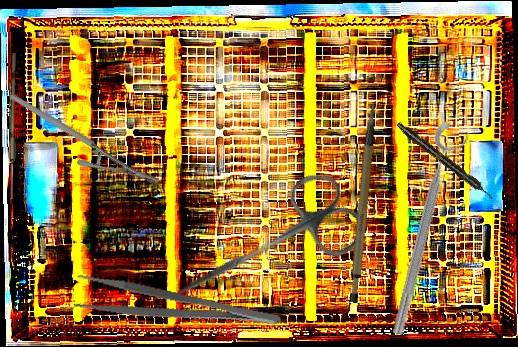Dressing Forceps: (71, 271, 283, 347)
Fixation Ring: (385, 120, 474, 340)
Handpiece: (394, 120, 496, 202)
Iris Scissors: (155, 162, 373, 336)
Needle Holder: (8, 56, 162, 222)
Scalpel Handle: (323, 103, 408, 305)
Surgical Spoon: (9, 53, 16, 199)
